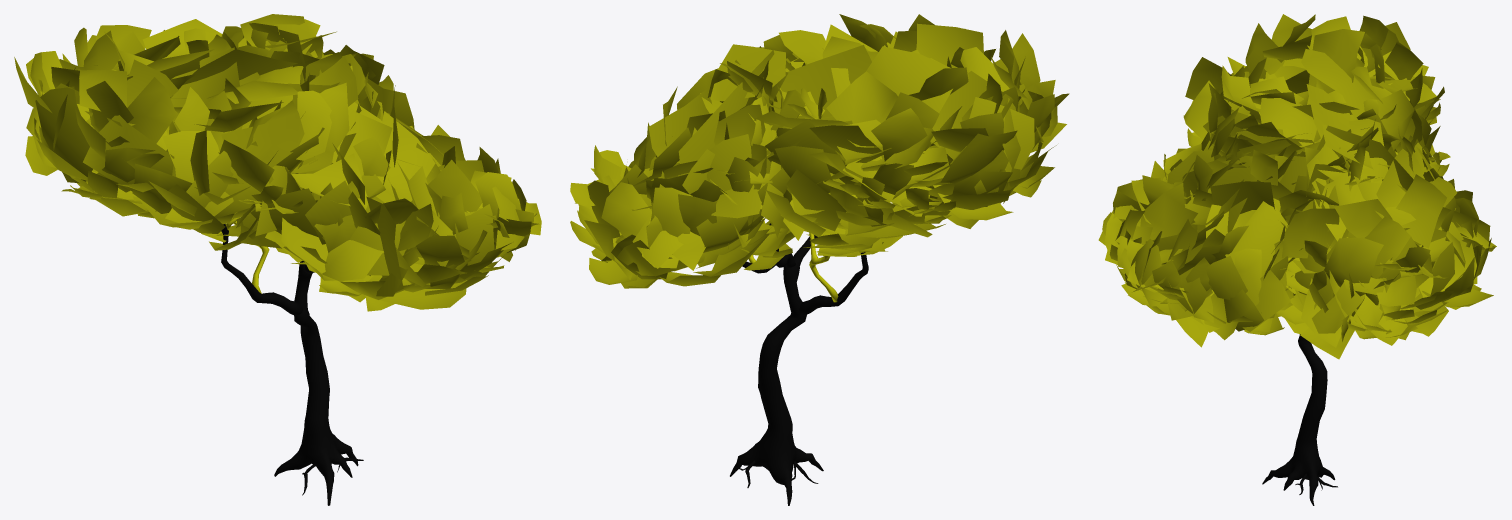
Rendered from SM_PineItalian_01.fbx.
3 views of the same model, side by side, from view 1: azimuth 30°, elevation 25°; view 2: azimuth 150°, elevation 25°; view 3: azimuth 270°, elevation 25° (orthographic). The views are drawn at different scales.
Visible parts, largest first — view 1: SM_PineItalian_01_VC.mo; view 2: SM_PineItalian_01_VC.mo; view 3: SM_PineItalian_01_VC.mo.
Boxes of the visible parts, x1,y1,x2,y2 form: SM_PineItalian_01_VC.mo: (14, 14, 541, 505); SM_PineItalian_01_VC.mo: (570, 14, 1069, 505); SM_PineItalian_01_VC.mo: (1098, 14, 1496, 505).
Bounding box in the file's own units: 2306 × 2550 × 2362.
